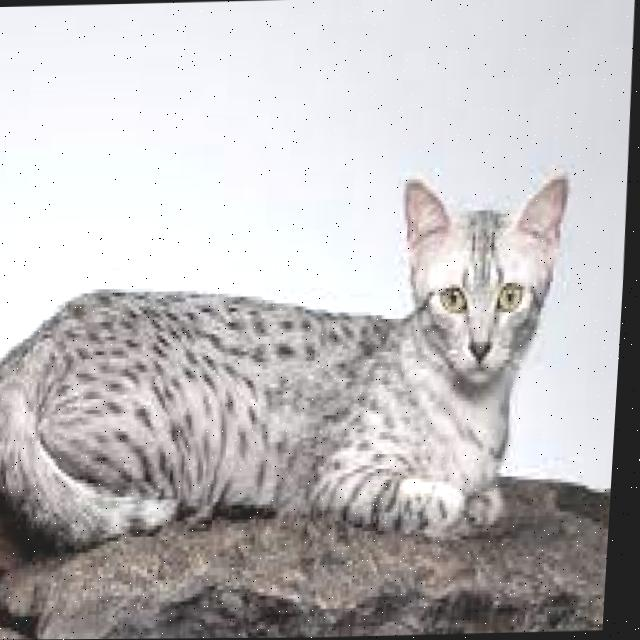Egyptian Mau: (0, 160, 584, 557)
